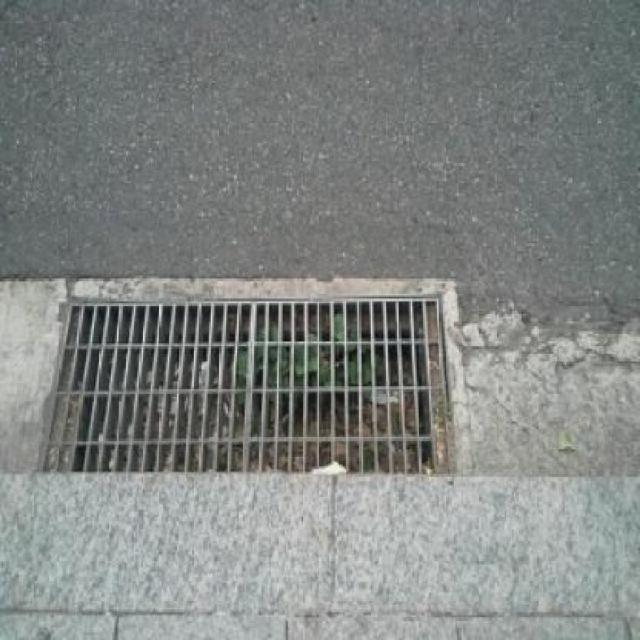Drain Hole: (13, 286, 477, 497)
